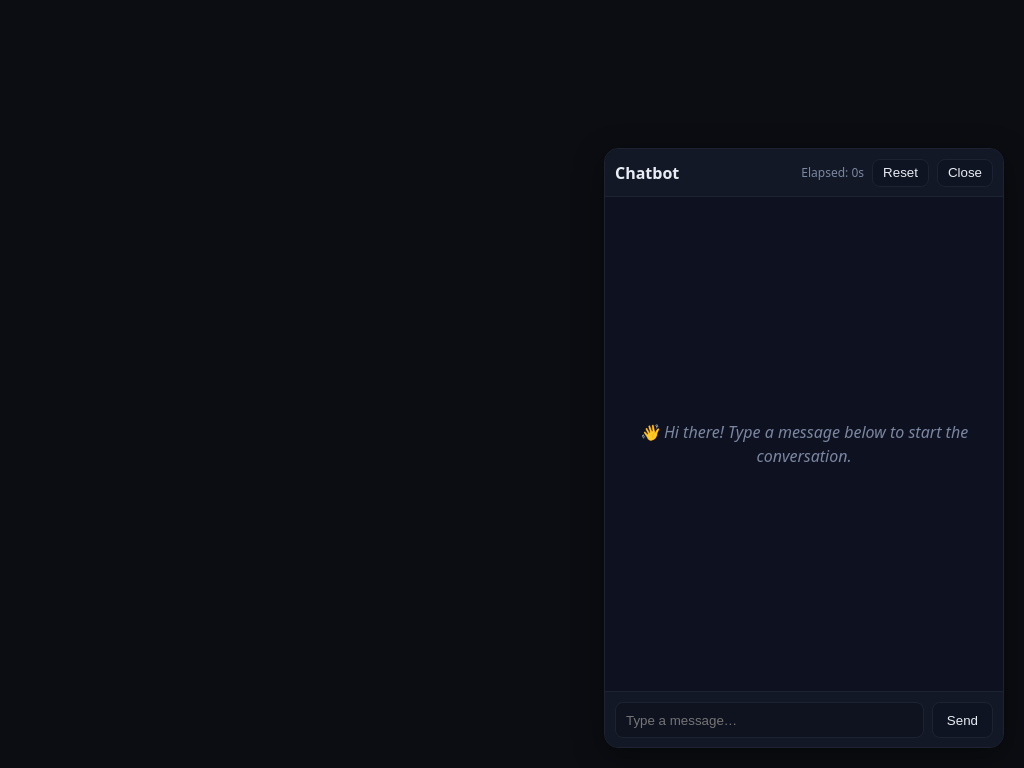
ChatWindow › sends a user message with Send and receives a bot reply
Type "Hello there" into the field labelled "Type a message…" at (769, 720), box [615,702,924,738]
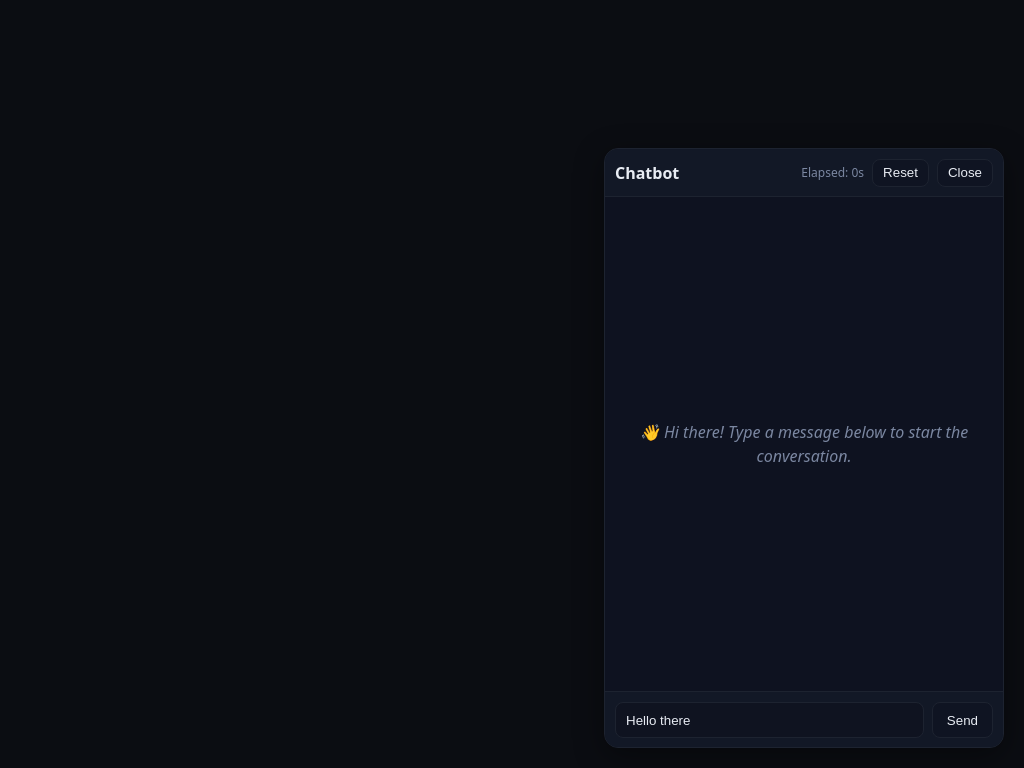
Click the button named "send message" at (962, 720), box [932,702,993,738]
Wait 500 ms
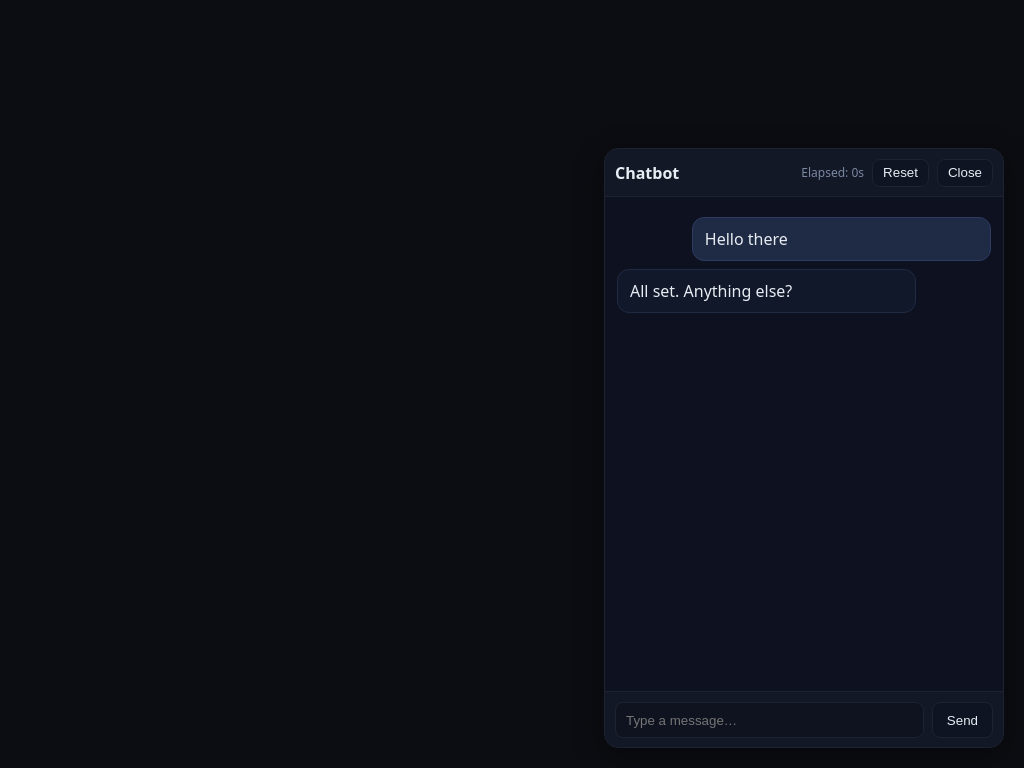
Now the list item with class "left" is shown, box [617,269,916,313]
